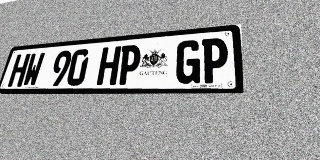0: (65, 49, 90, 86)
9: (49, 50, 73, 86)
G: (175, 39, 201, 84)
H: (96, 46, 122, 85), (7, 54, 31, 87)
P: (201, 37, 228, 83), (116, 44, 142, 85)
W: (22, 52, 45, 87)
